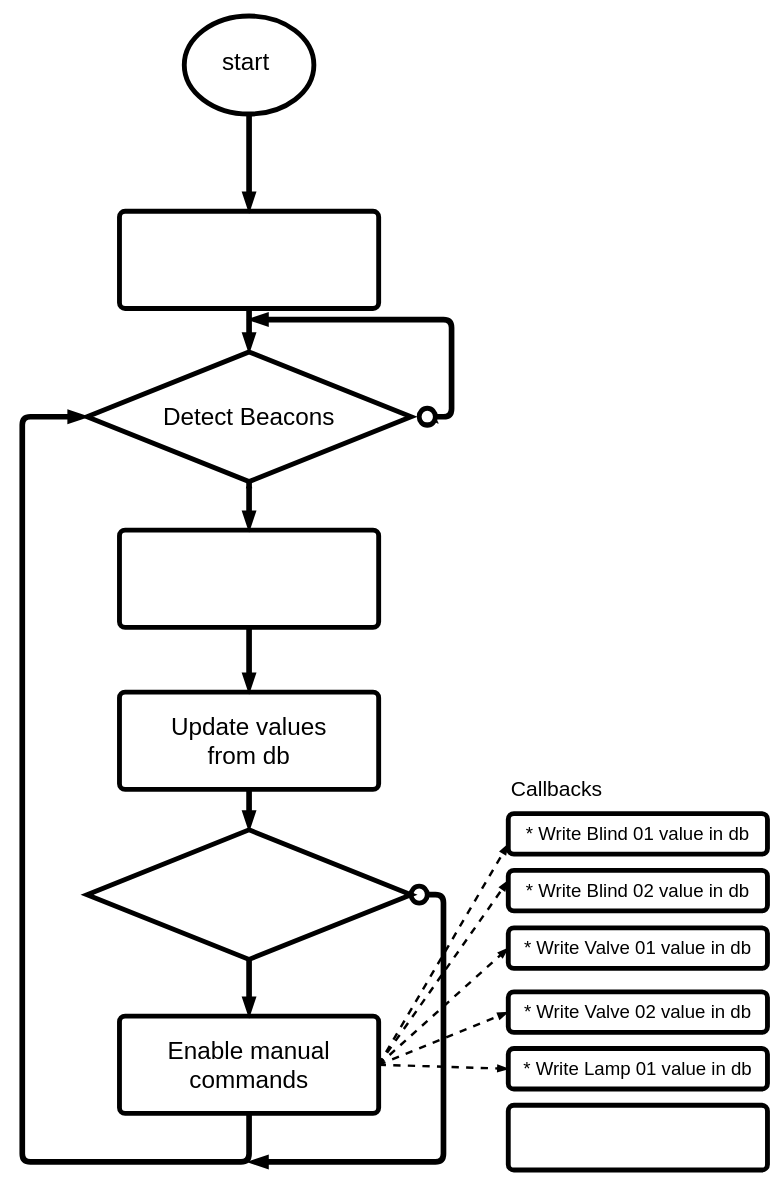
Image size: 784x1187. Some labels were removed from this diagram. The centre of each missing label's shape, as x and y in pixels:
"Get Beacons info from db" belongs at point (249, 259).
"Get Room statistics Graph" belongs at point (637, 1137).
"PIR detection" belongs at point (248, 894).
"Show Room" belongs at point (249, 578).
